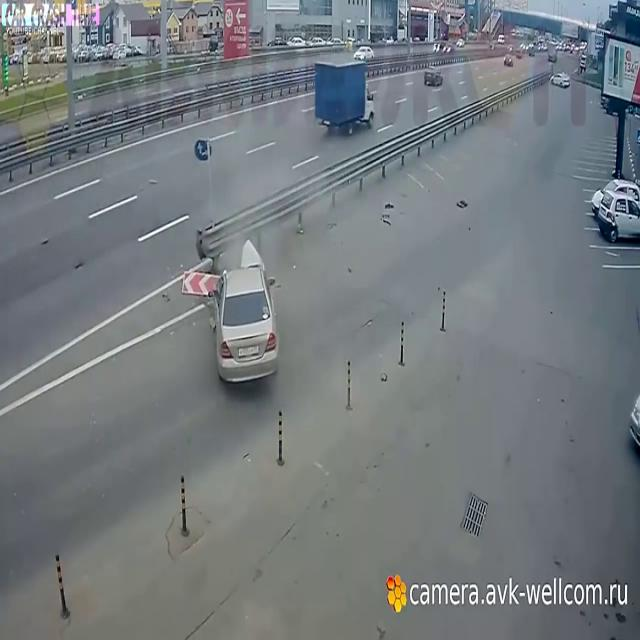Accident: (148, 196, 303, 401)
